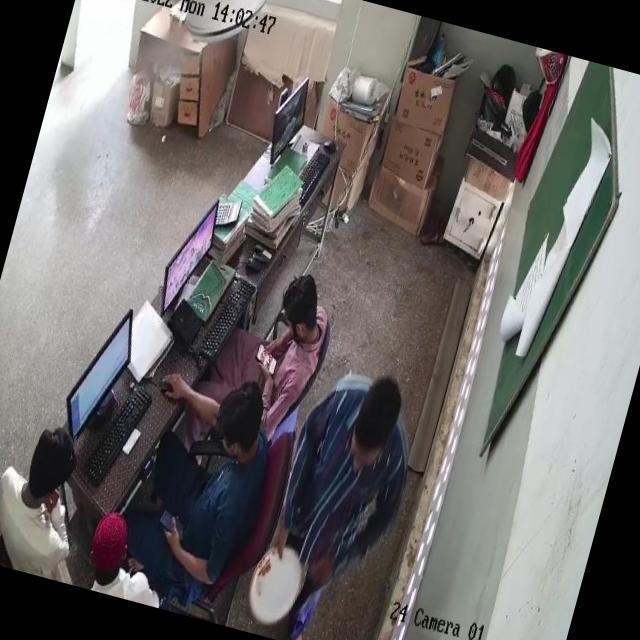person: (255, 360, 424, 640), (126, 350, 280, 589), (225, 252, 342, 408), (0, 422, 98, 581), (82, 514, 178, 608), (0, 377, 39, 542)
